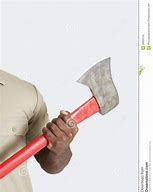axe: (1, 55, 121, 179)
